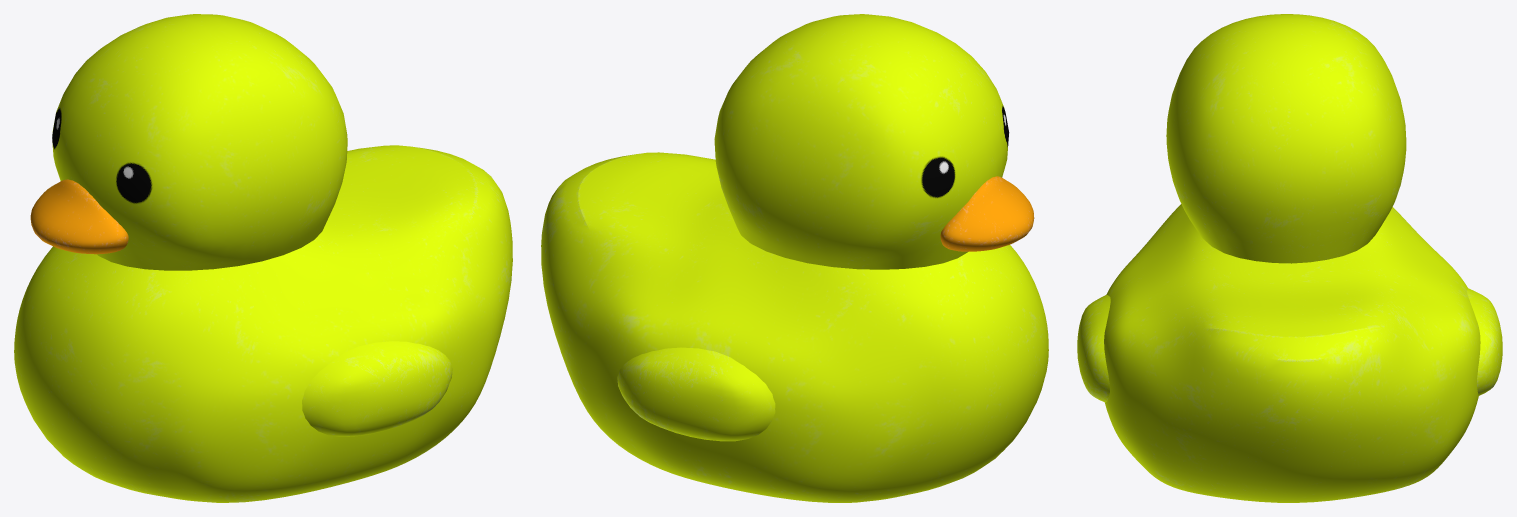
File: Duck.fbx
The picture shows the model from 3 angles, left to right: view 1: azimuth 30°, elevation 25°; view 2: azimuth 150°, elevation 25°; view 3: azimuth 270°, elevation 25°; orthographic projection. The views are drawn at different scales.
Parts seen in each view (by area): view 1: Body; view 2: Body; view 3: Body.
Part boxes in pixels (left/top/right/bottom): Body: left=14, top=14, right=512, bottom=502; Body: left=541, top=14, right=1048, bottom=502; Body: left=1077, top=14, right=1502, bottom=502.
Bounding box in the file's own units: 235 × 211 × 202.
